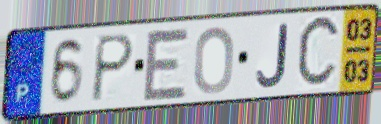6: (48, 36, 86, 106)
C: (294, 11, 343, 93)
E: (141, 26, 193, 103)
J: (254, 21, 290, 90)
O: (192, 24, 237, 96)
P: (88, 32, 137, 105)
